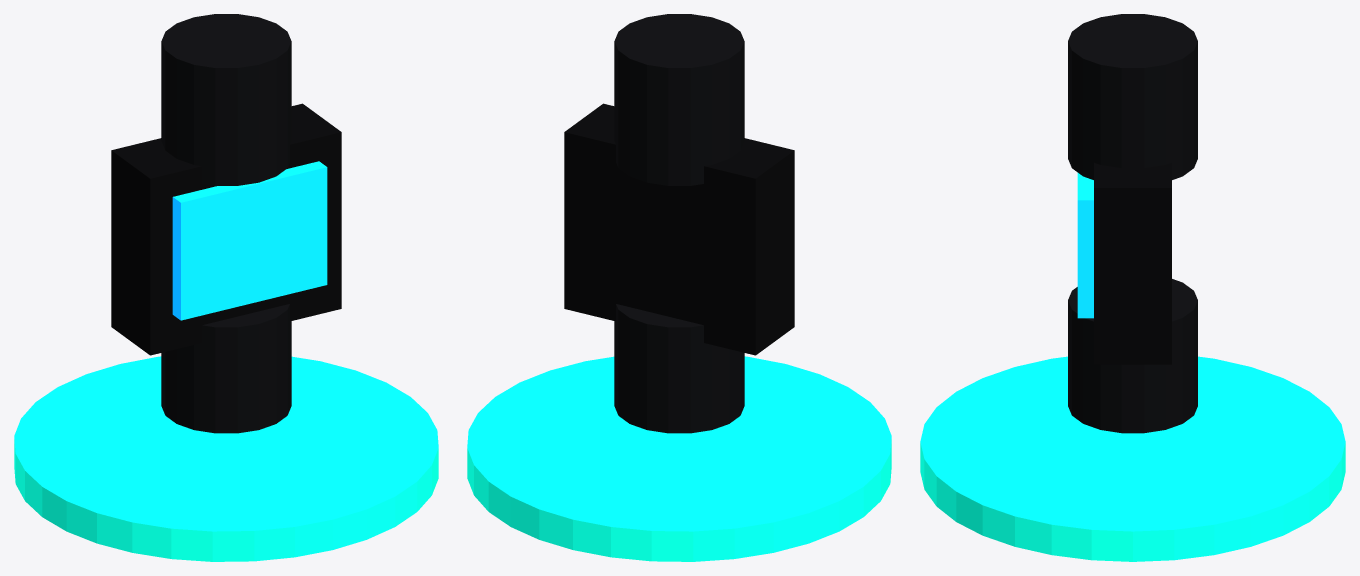
File: fashion_watch.dae
3 renders of one model, left to right at view 1: azimuth 30°, elevation 25°; view 2: azimuth 150°, elevation 25°; view 3: azimuth 270°, elevation 25°, orthographic.
Visible parts, largest first — view 1: 06_05_Popular_Fashion_Watch_ROOT_base, 06_05_Popular_Fashion_Watch_part_01, 06_05_Popular_Fashion_Watch_part_04, 06_05_Popular_Fashion_Watch_part_02, 06_05_Popular_Fashion_Watch_part_03; view 2: 06_05_Popular_Fashion_Watch_ROOT_base, 06_05_Popular_Fashion_Watch_part_01, 06_05_Popular_Fashion_Watch_part_04, 06_05_Popular_Fashion_Watch_part_03; view 3: 06_05_Popular_Fashion_Watch_ROOT_base, 06_05_Popular_Fashion_Watch_part_04, 06_05_Popular_Fashion_Watch_part_01, 06_05_Popular_Fashion_Watch_part_03, 06_05_Popular_Fashion_Watch_part_02.
Boxes of the visible parts, left/top/right/bottom form: 06_05_Popular_Fashion_Watch_ROOT_base: left=14, top=356, right=438, bottom=561; 06_05_Popular_Fashion_Watch_part_01: left=111, top=103, right=341, bottom=355; 06_05_Popular_Fashion_Watch_part_04: left=161, top=14, right=291, bottom=185; 06_05_Popular_Fashion_Watch_part_02: left=172, top=161, right=327, bottom=320; 06_05_Popular_Fashion_Watch_part_03: left=161, top=304, right=291, bottom=433; 06_05_Popular_Fashion_Watch_ROOT_base: left=467, top=356, right=891, bottom=561; 06_05_Popular_Fashion_Watch_part_01: left=564, top=103, right=794, bottom=355; 06_05_Popular_Fashion_Watch_part_04: left=614, top=14, right=744, bottom=185; 06_05_Popular_Fashion_Watch_part_03: left=614, top=304, right=744, bottom=433; 06_05_Popular_Fashion_Watch_ROOT_base: left=920, top=356, right=1345, bottom=561; 06_05_Popular_Fashion_Watch_part_04: left=1068, top=14, right=1197, bottom=179; 06_05_Popular_Fashion_Watch_part_01: left=1094, top=162, right=1171, bottom=364; 06_05_Popular_Fashion_Watch_part_03: left=1068, top=279, right=1197, bottom=433; 06_05_Popular_Fashion_Watch_part_02: left=1077, top=173, right=1093, bottom=318.
Size of the model in its own units: 0.76 by 0.85 by 0.76.
